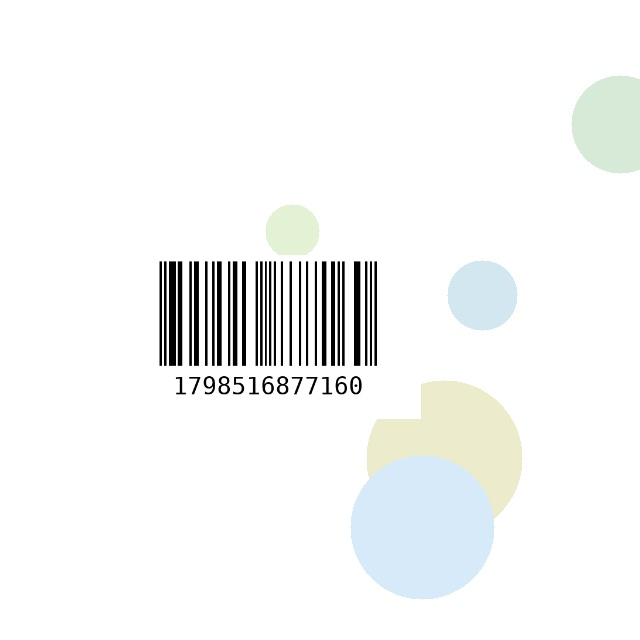barcode: (115, 255, 421, 419)
